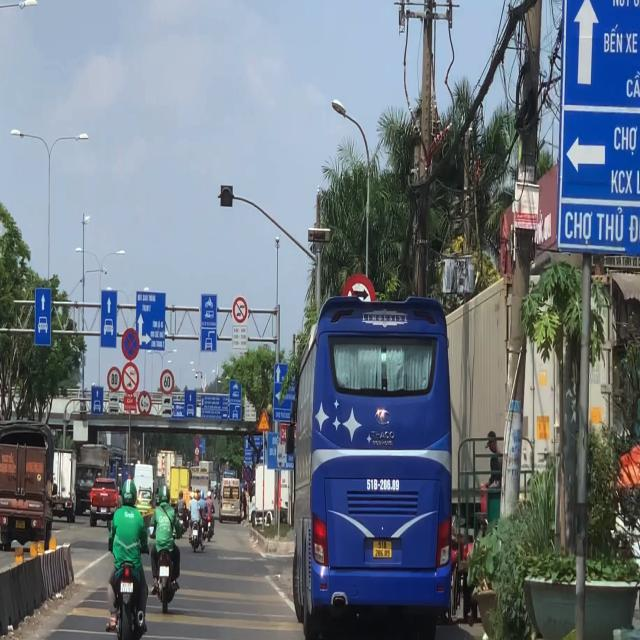Cam dung va do: (121, 328, 140, 361), (245, 467, 252, 482), (195, 437, 200, 446)
Cam re phai: (342, 274, 376, 336)
Chieu cao toi da: (138, 391, 152, 416)
Nguy hiem: (257, 409, 271, 431)
Toc do toi da: (106, 366, 122, 392), (160, 369, 174, 395)
